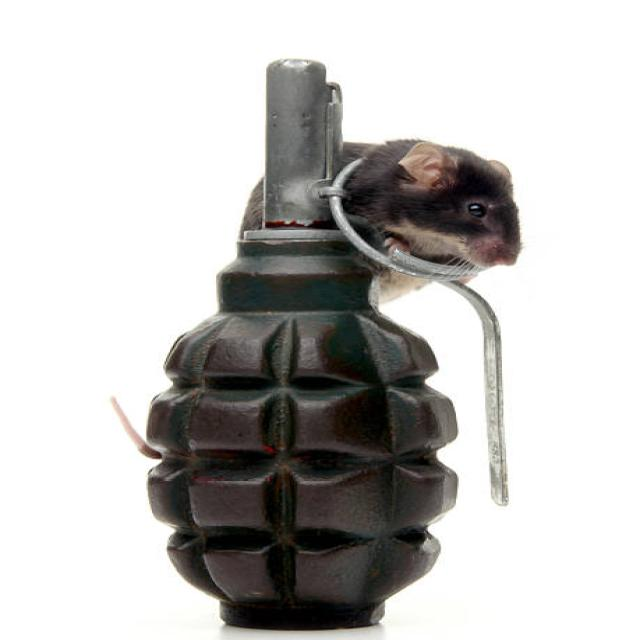grenade: (134, 53, 513, 640)
